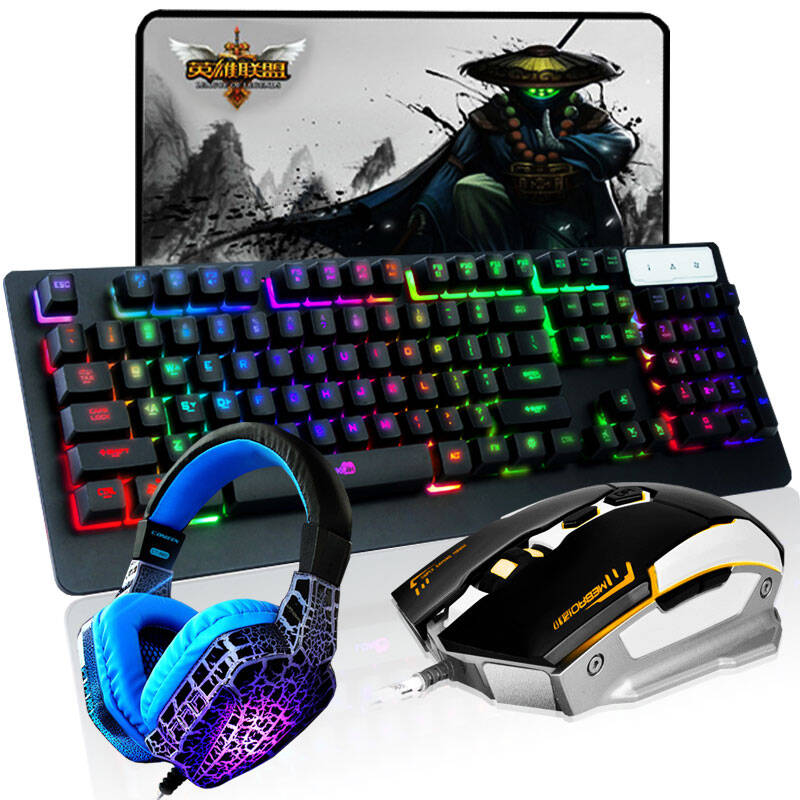keyboard: (6, 245, 786, 596)
mouse: (392, 481, 788, 718)
